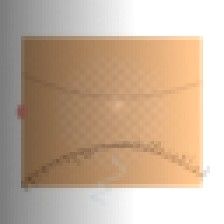foreign_body_visible: (104, 125, 134, 149)
